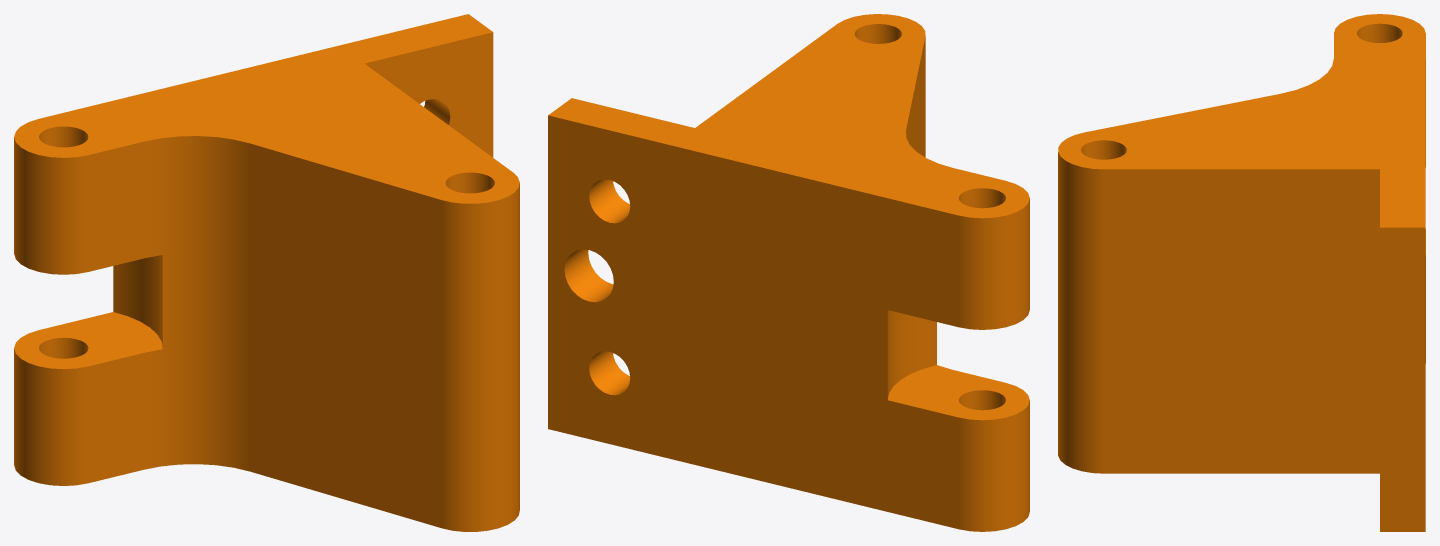
File: TILT2.glb
The picture shows the model from 3 angles, left to right: view 1: azimuth 30°, elevation 25°; view 2: azimuth 150°, elevation 25°; view 3: azimuth 270°, elevation 25°; orthographic projection. The views are drawn at different scales.
Parts seen in each view (by area): view 1: TILT2; view 2: TILT2; view 3: TILT2.
Boxes of the visible parts, x1,y1,x2,y2 form: TILT2: (14, 14, 519, 531); TILT2: (548, 14, 1029, 531); TILT2: (1058, 14, 1425, 531).
Bounding box in the file's own units: 0.055 × 0.0365 × 0.04.
